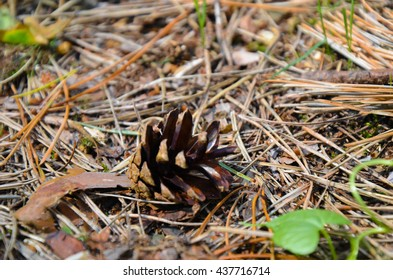Pc: (126, 111, 235, 211)
